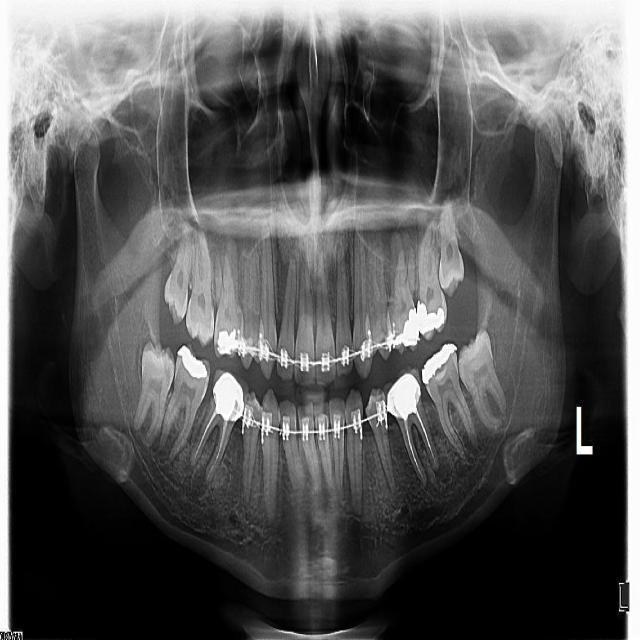Crown: (384, 367, 419, 418), (213, 370, 247, 420)
Filling: (421, 341, 456, 385), (176, 343, 206, 381), (394, 308, 419, 350), (417, 300, 444, 336), (217, 328, 238, 357)
Periapical lesion: (428, 441, 451, 487), (190, 460, 213, 502)
Root Canal Treatment: (403, 419, 424, 480), (414, 409, 435, 465), (195, 404, 217, 457), (208, 418, 227, 476)
impacted tooth: (456, 329, 511, 430), (132, 340, 173, 447), (437, 196, 463, 293)
